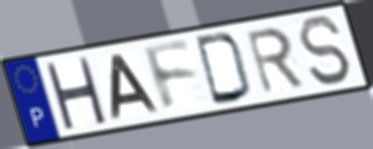A: (109, 52, 162, 121)
D: (192, 31, 254, 107)
F: (140, 38, 201, 115)
H: (42, 56, 109, 130)
R: (243, 25, 308, 97)
S: (294, 14, 355, 88)
